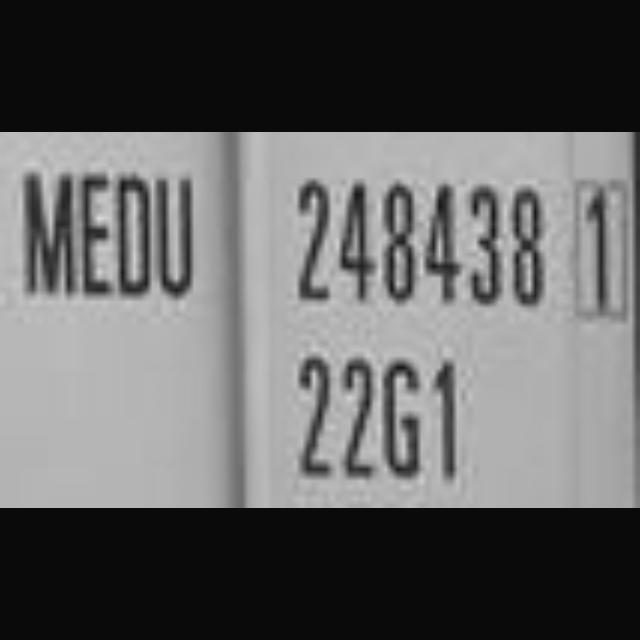1: (575, 181, 625, 321), (427, 346, 463, 488)
2: (291, 348, 339, 484), (287, 173, 335, 304), (337, 348, 379, 487)
3: (464, 177, 506, 315)
4: (420, 172, 464, 308), (337, 175, 379, 312)
8: (376, 172, 420, 312), (505, 178, 547, 314)
d: (116, 160, 154, 304)
e: (80, 156, 112, 310)
g: (380, 349, 424, 487)
m: (18, 150, 82, 332)
u: (152, 160, 198, 306)
